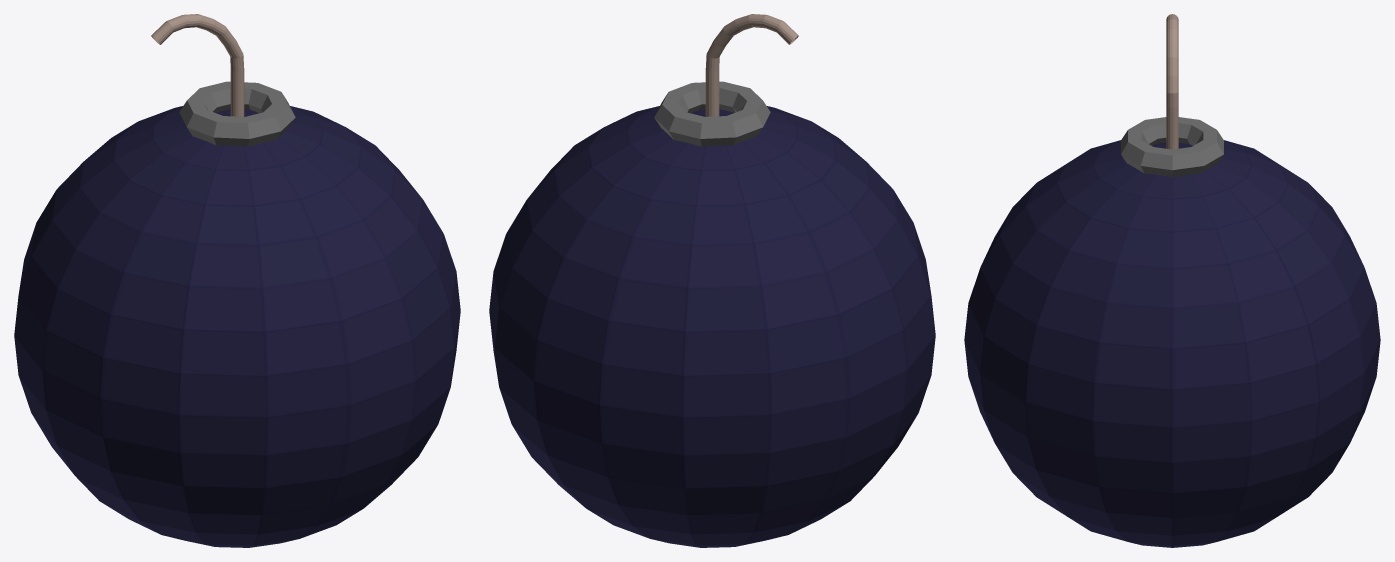
The model's file is Bomb.fbx.
3 renders of one model, left to right at view 1: azimuth 30°, elevation 25°; view 2: azimuth 150°, elevation 25°; view 3: azimuth 270°, elevation 25°, orthographic. The views are drawn at different scales.
Parts seen in each view (by area): view 1: Bomb; view 2: Bomb; view 3: Bomb.
Boxes of the visible parts, x1=… form: Bomb: x1=14, y1=14, x2=460, y2=547; Bomb: x1=489, y1=14, x2=935, y2=547; Bomb: x1=964, y1=14, x2=1380, y2=547.
Bounding box in the file's own units: 200 × 257 × 200.
